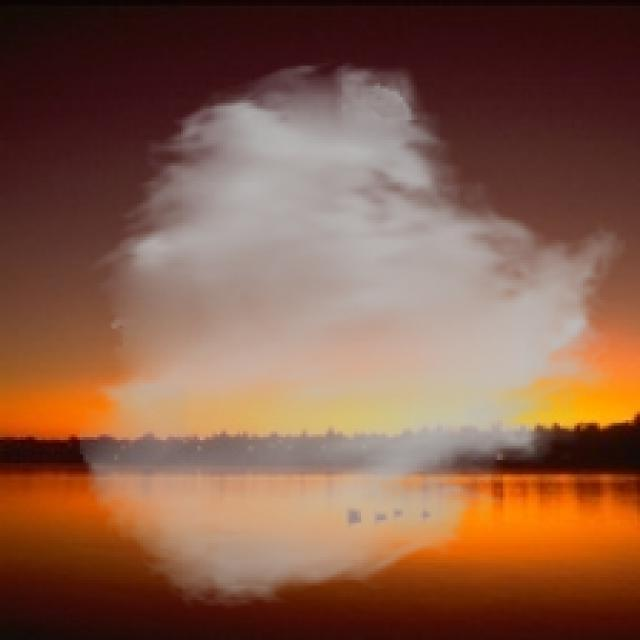Smoke: (74, 57, 629, 612)
